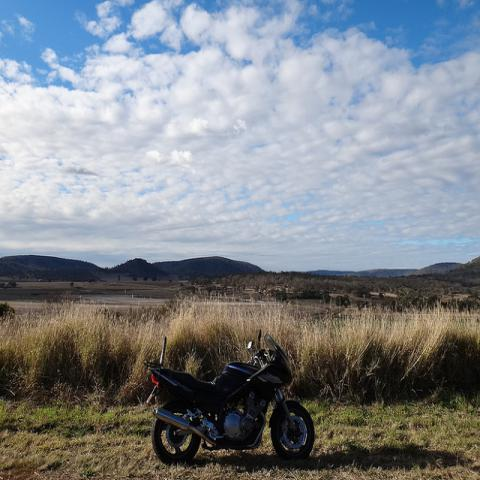motorcycle: (149, 326, 317, 464)
